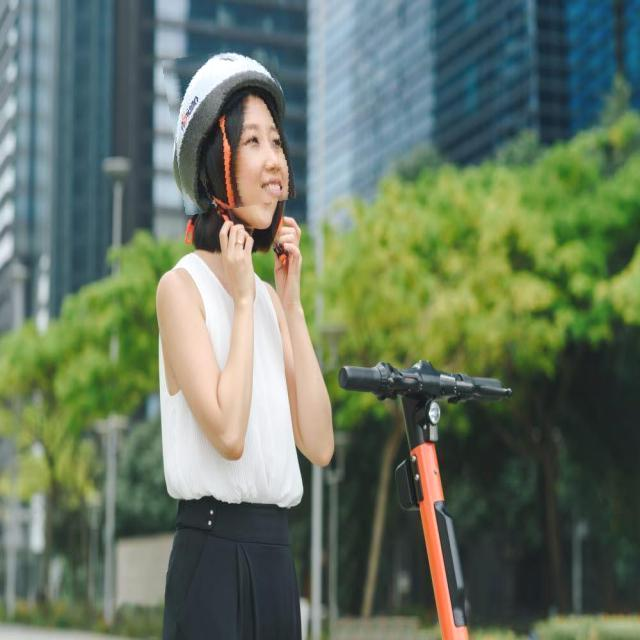helmet: (167, 47, 292, 212)
